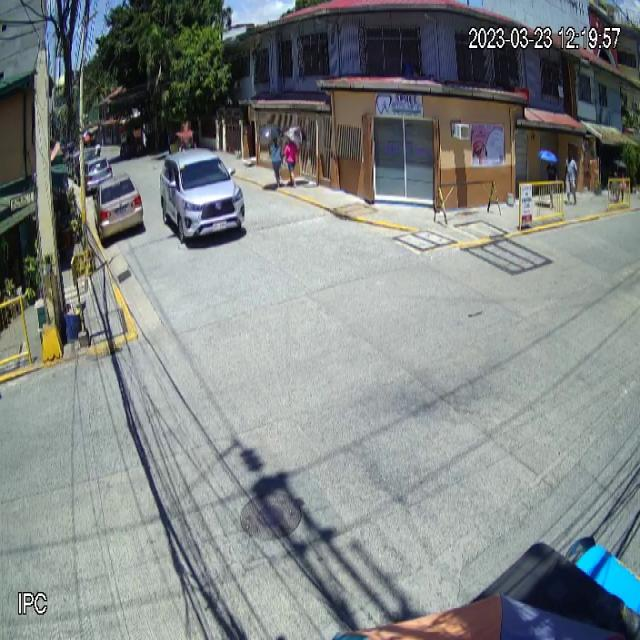Car: (159, 147, 245, 245), (92, 173, 144, 243)
